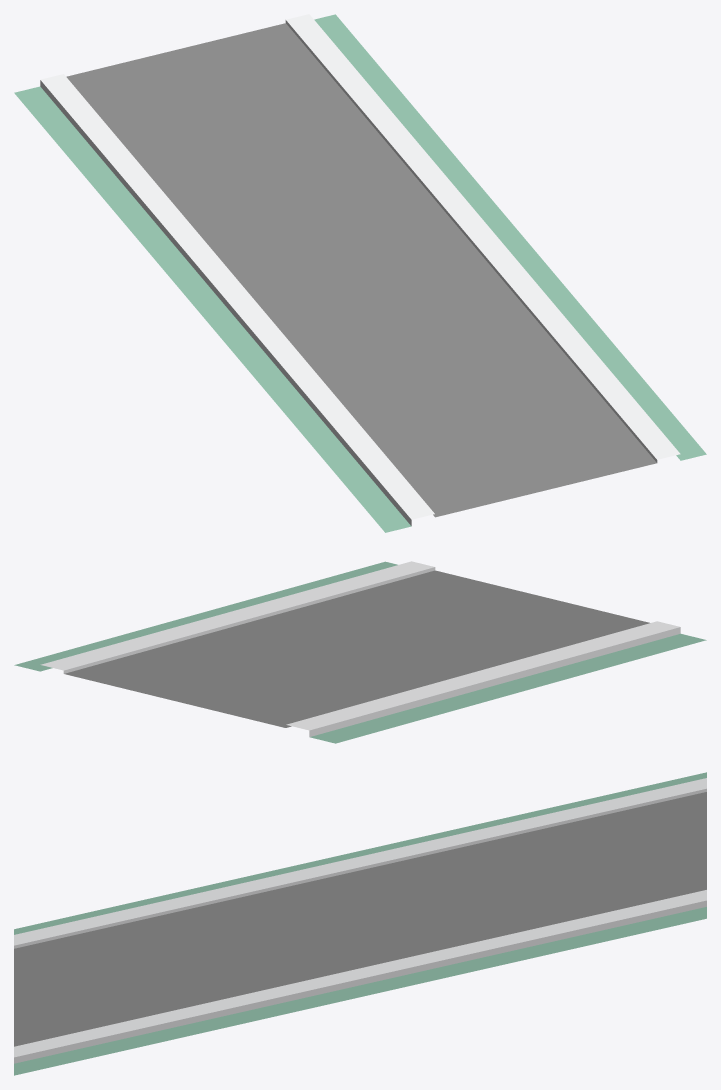
File: roadRampLong.glb
The picture shows the model from 3 angles, top to bottom: view 1: azimuth 30°, elevation 25°; view 2: azimuth 150°, elevation 25°; view 3: azimuth 270°, elevation 25°; orthographic projection. The views are drawn at different scales.
Parts seen in each view (by area): view 1: roadRampLong(Clone); view 2: roadRampLong(Clone); view 3: roadRampLong(Clone).
Boxes of the visible parts, x1,y1,x2,y2 form: roadRampLong(Clone): [14, 14, 706, 532]; roadRampLong(Clone): [14, 561, 706, 743]; roadRampLong(Clone): [14, 772, 706, 1075].
Bounding box in the file's own units: 1 × 0.52 × 2.
